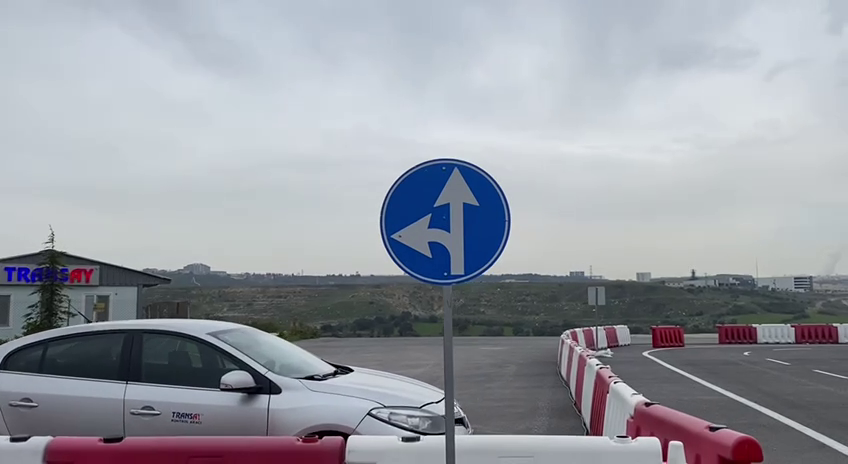forwardAndLeft: (377, 156, 512, 291)
